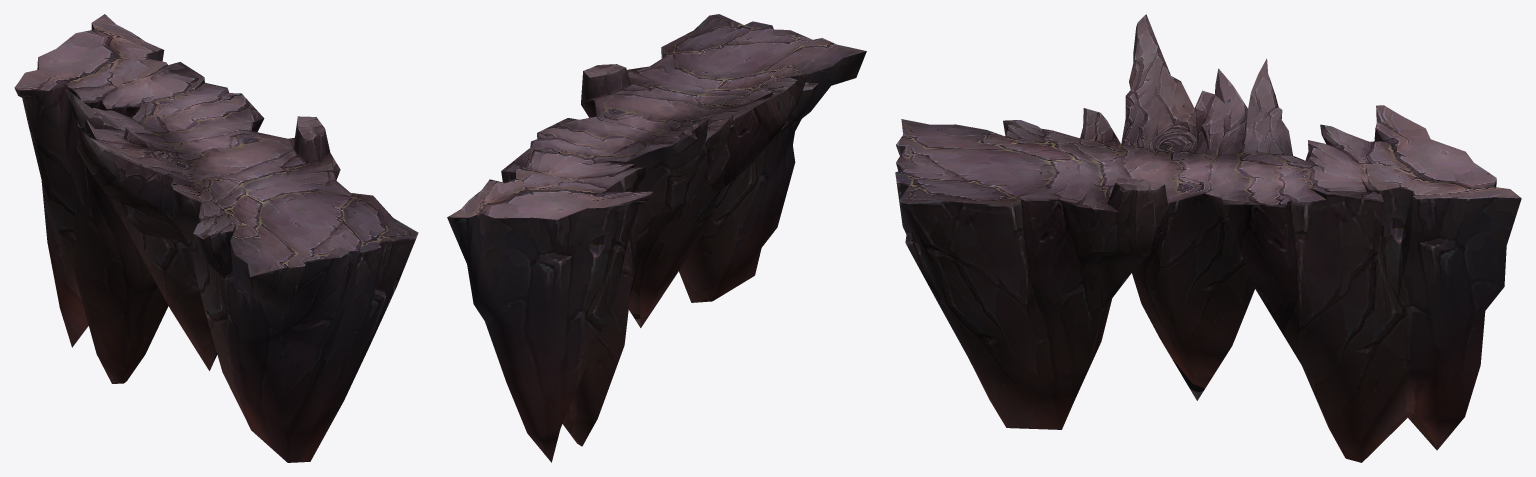
Rendered from rongyan_stone_11.FBX.
The picture shows the model from 3 angles, left to right: view 1: azimuth 30°, elevation 25°; view 2: azimuth 150°, elevation 25°; view 3: azimuth 270°, elevation 25°; orthographic projection. The views are drawn at different scales.
Parts seen in each view (by area): view 1: rongyan_stone_11; view 2: rongyan_stone_11; view 3: rongyan_stone_11.
Part boxes in pixels (<box>): rongyan_stone_11: <box>14,14,418,462</box>; rongyan_stone_11: <box>447,14,866,462</box>; rongyan_stone_11: <box>895,14,1521,462</box>.
Bounding box in the file's own units: 683 × 987 × 1485.
